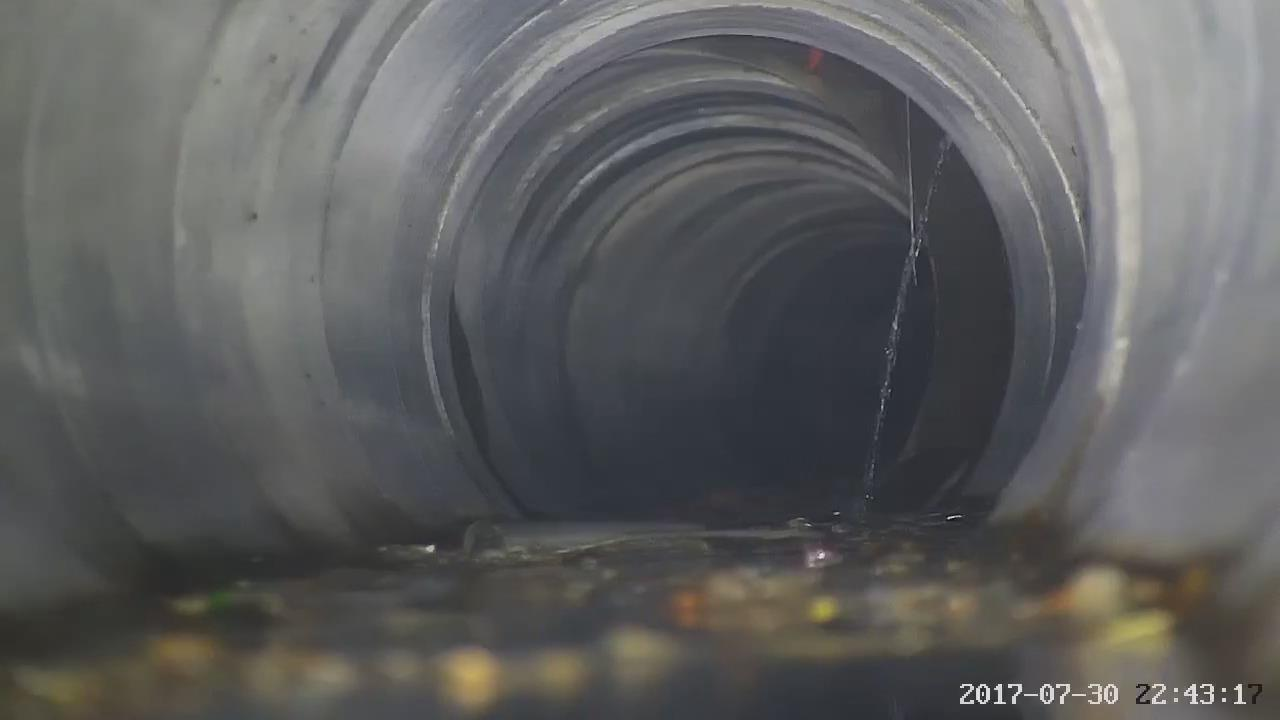SL: (839, 119, 975, 528)
